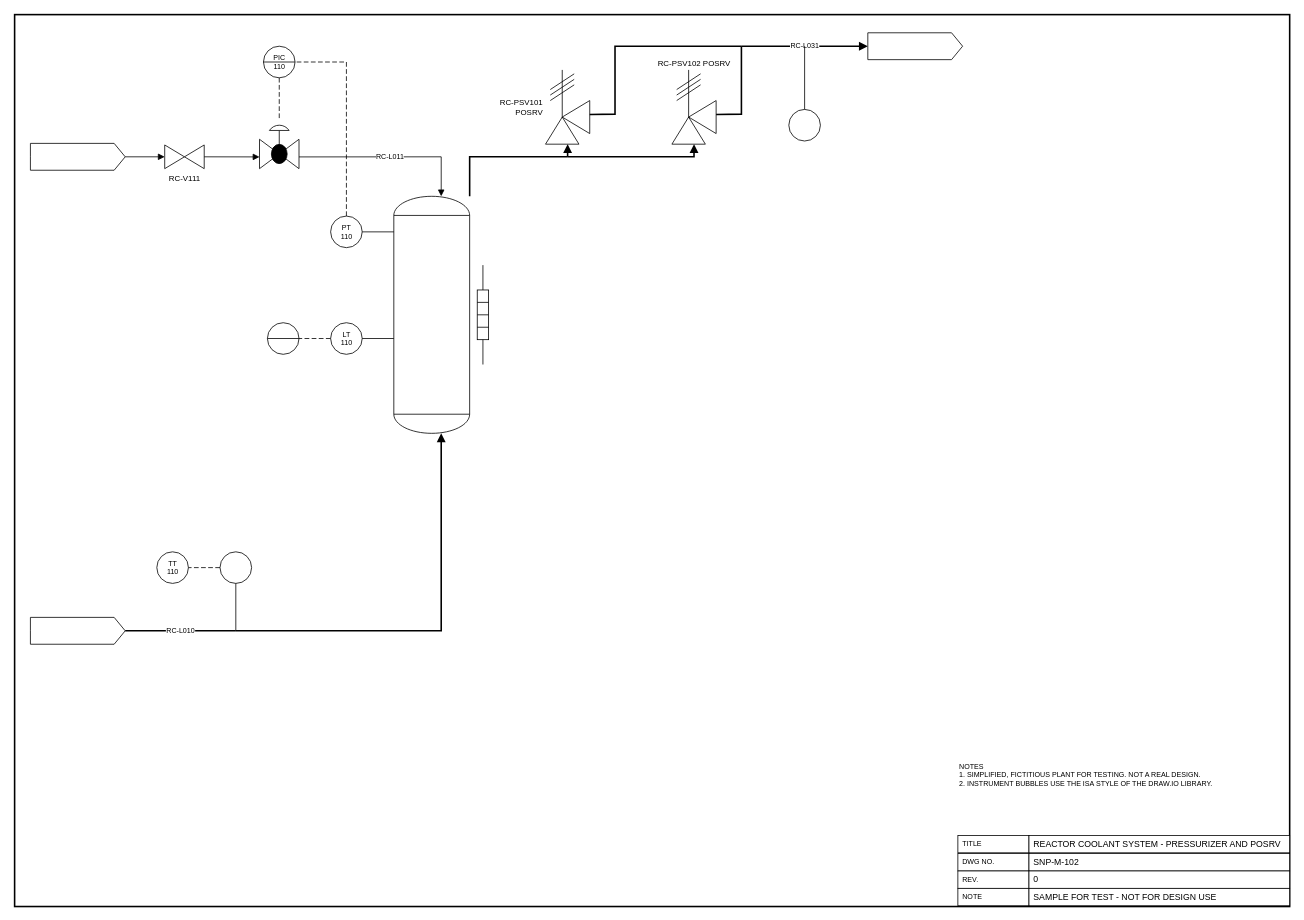
Some shapes in this 1304 by 920 pixel diagram are drawn without their labels. Here are the shapes that lost their labels. From the top down, the centre of each, then its label:
point (915, 46): TO SNP-M-301 RC-L031 TO IRWST
point (279, 144): RC-PV101
point (804, 125): TE 120
point (77, 156): FROM SNP-M-101 RC-L011 SPRAY LINE
point (441, 314): RC-PZ01 PRESSURIZER
point (283, 338): LI 110
point (235, 567): TE 110
point (77, 630): FROM SNP-M-101 RC-L010 SURGE LINE
